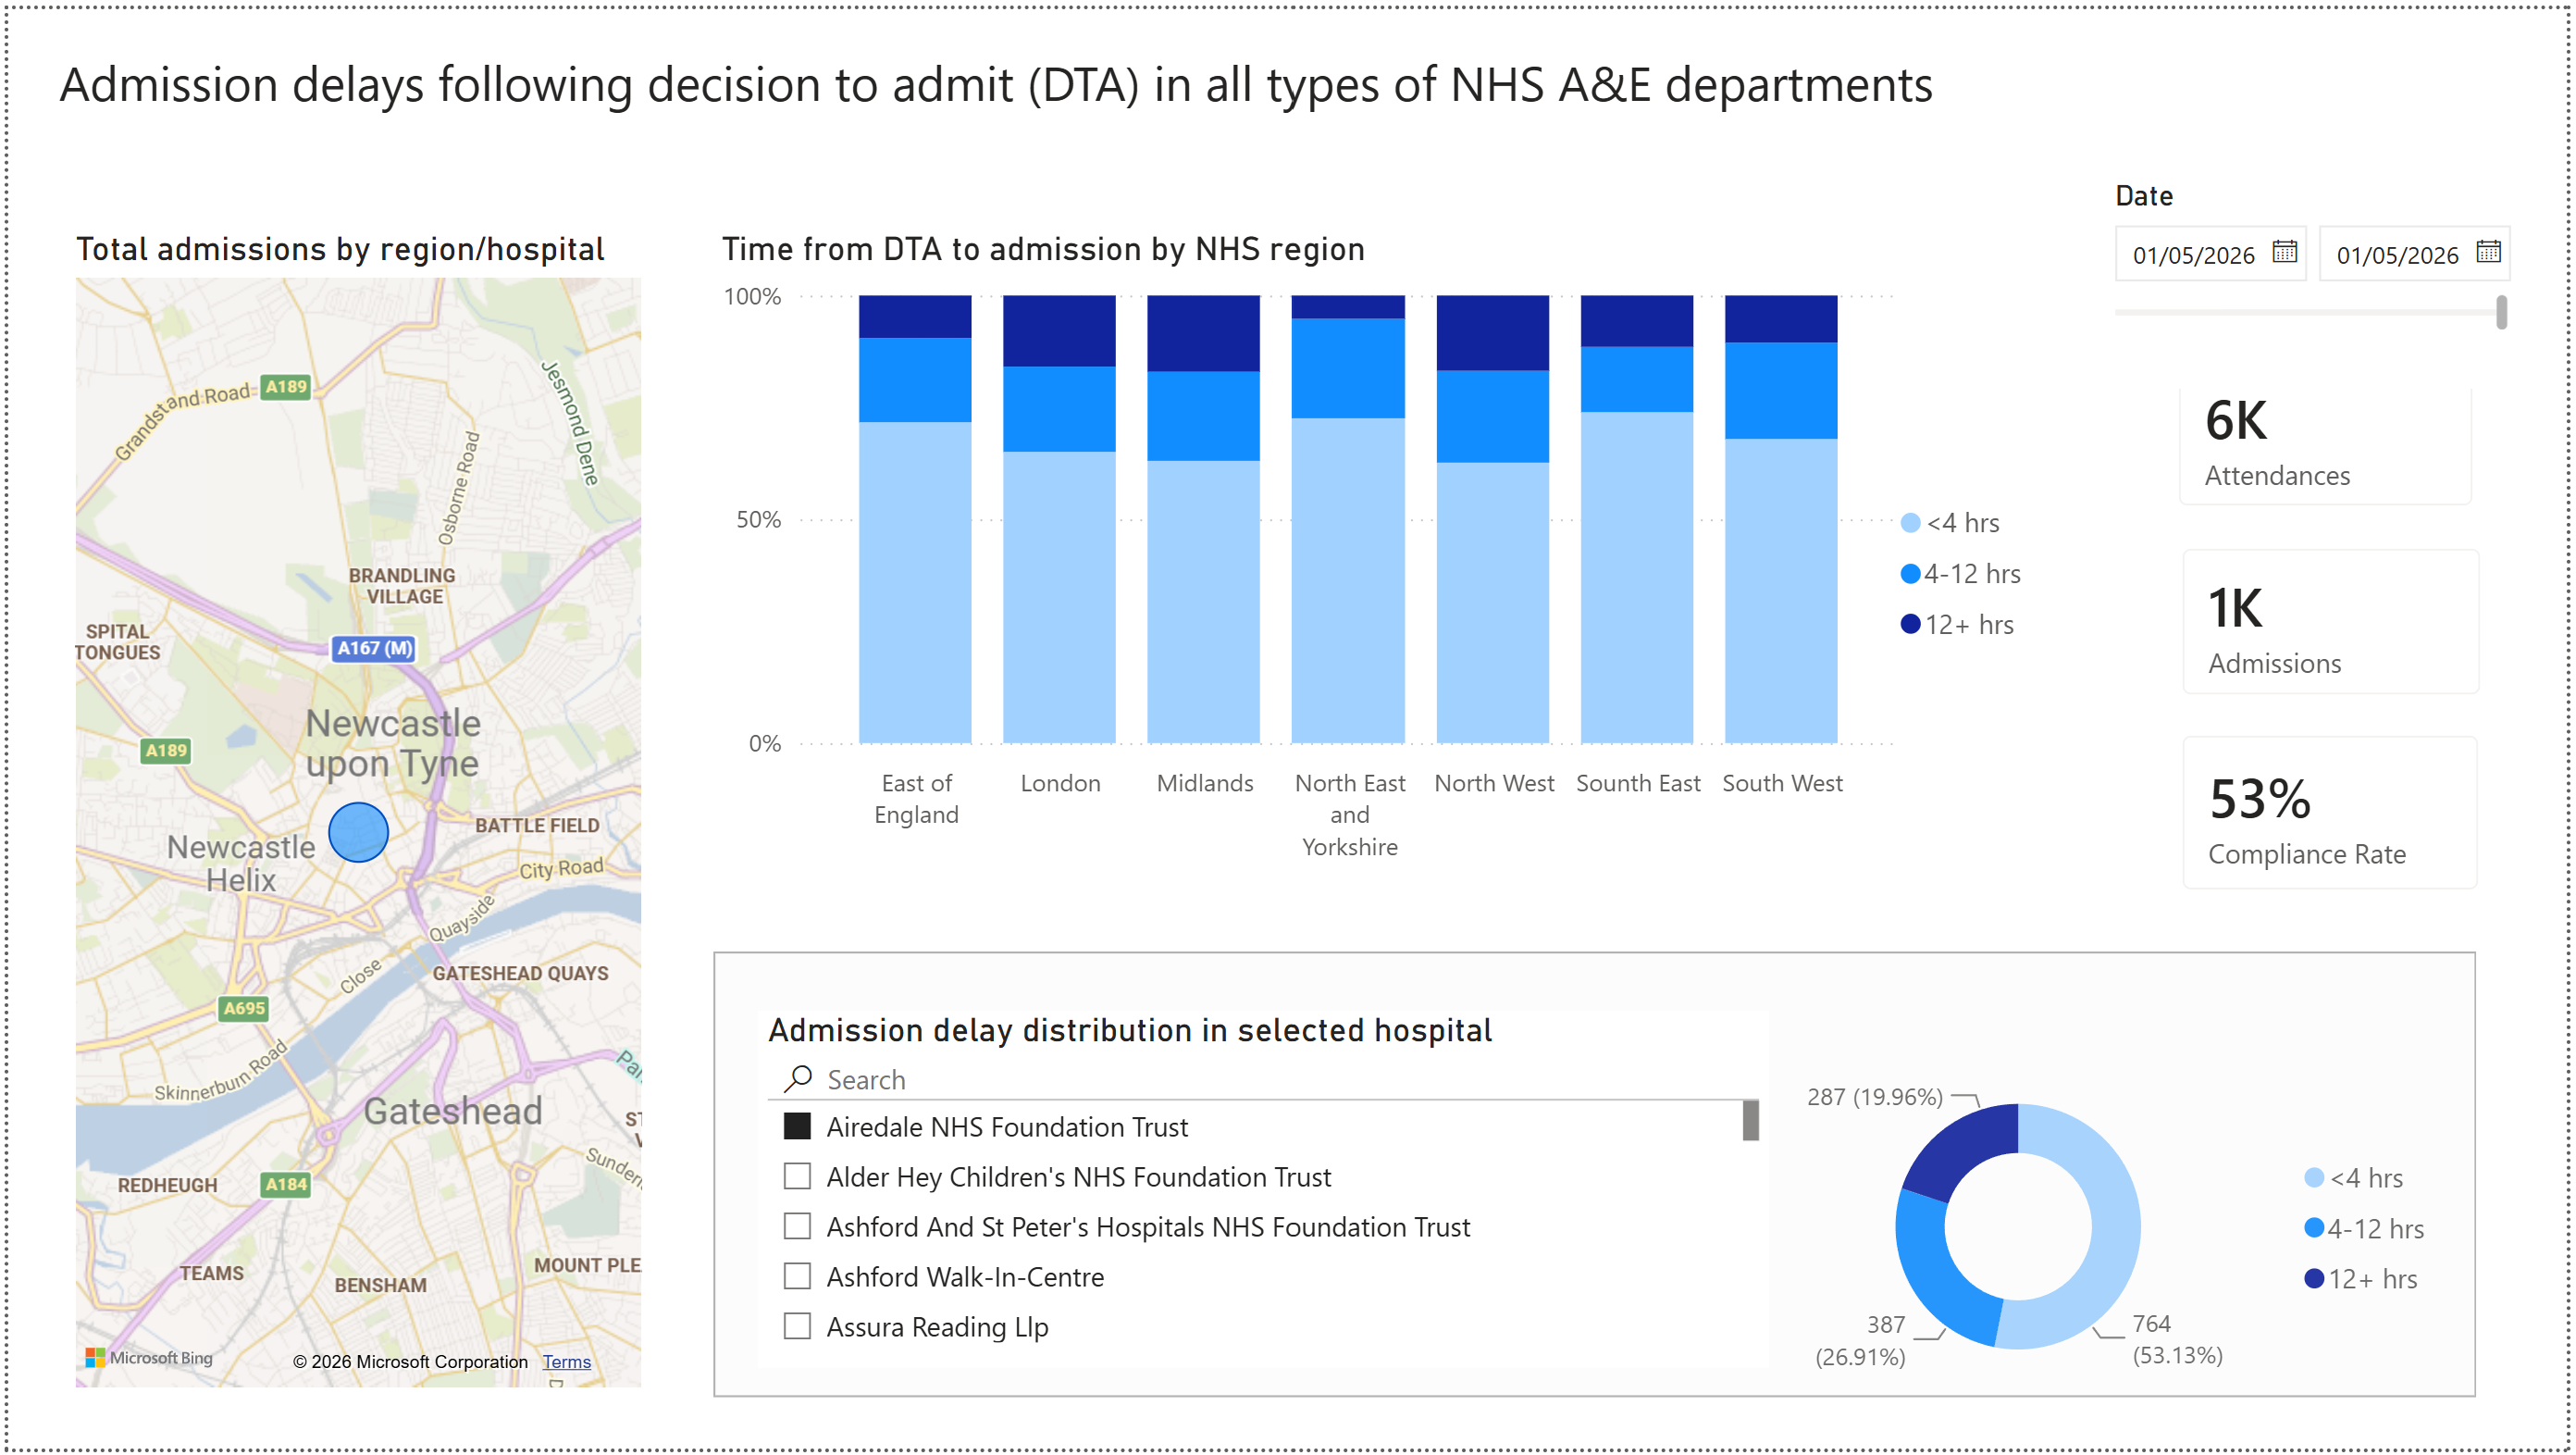

What the dashboard file says about the page in this screenshot:
{"tool":"powerbi","page":{"name":"DTA to Admit","canvas":[1280,720],"ordinal":1},"visuals":[{"type":"hundredPercentStackedColumnChart","title":"Time from DTA to admission by NHS region","fields":{"Y":["_Measures.Total Admissions within 4 hrs","Sum(Fact_AE_ref.4-12 hrs DTA to admission)","Sum(Fact_AE_ref.12+ hrs DTA to admission)"],"Category":["Dim_Org_ref.Short Parent Org name"]},"box":[352.3,110.2,669.3,323.9],"z":0},{"type":"donutChart","title":"Time from Decision to admit to Admission in the selected hospital","fields":{"Y":["_Measures.Total Admissions within 4 hrs","Sum(Fact_AE_ref.4-12 hrs DTA to admission)","Sum(Fact_AE_ref.12+ hrs DTA to admission)"]},"box":[858,522.7,364.8,171.6],"z":1000},{"type":"cardVisual","fields":{"Data":["_Measures.Total Attendances"]},"box":[1068.2,159.1,181.8,106.8],"z":2000},{"type":"cardVisual","fields":{"Data":["_Measures.Total Admissions"]},"box":[1070.2,252.4,183.4,107.4],"z":3000},{"type":"slicer","fields":{"Values":["Date.Date"]},"box":[1040.9,79.5,221.6,110.2],"z":4000},{"type":"shape","box":[352.7,471.3,881.7,223],"z":4500},{"type":"slicer","title":"Admission delay distribution in selected hospital","fields":{"Values":["Dim_Org_ref.Org name"]},"box":[375,501.1,505.7,178.4],"z":5000},{"type":"cardVisual","fields":{"Data":["_Measures.4hrs Compliance Rate Admissions"]},"box":[1070.2,346.6,182.4,111.5],"z":6000},{"type":"map","title":"Total admissions by region/hospital","fields":{"Size":["_Measures.Total Admissions"],"Category":["NHS Region.Region"]},"box":[28.4,110.2,293.2,584.1],"z":7000},{"type":"textbox","box":[20.8,14.5,1019.5,65.1],"z":8000}]}

Visuals, with their boxes in screenshot pixels (x1, y1, x2, y2), scaled from the page's 1280x720 canvas onto the 2576x1455 screenshot:
"Time from DTA to admission by NHS region" hundredPercentStackedColumnChart: <bbox>709, 223, 2056, 877</bbox>
"Time from Decision to admit to Admission in the selected hospital" donutChart: <bbox>1727, 1056, 2461, 1403</bbox>
cardVisual - _Measures.Total Attendances: <bbox>2149, 321, 2516, 538</bbox>
cardVisual - _Measures.Total Admissions: <bbox>2154, 510, 2523, 727</bbox>
slicer - Date.Date: <bbox>2095, 161, 2541, 383</bbox>
shape: <bbox>710, 952, 2484, 1403</bbox>
"Admission delay distribution in selected hospital" slicer: <bbox>755, 1013, 1773, 1374</bbox>
cardVisual - _Measures.4hrs Compliance Rate Admissions: <bbox>2154, 701, 2520, 926</bbox>
"Total admissions by region/hospital" map: <bbox>57, 223, 647, 1403</bbox>
textbox: <bbox>42, 30, 2094, 161</bbox>
